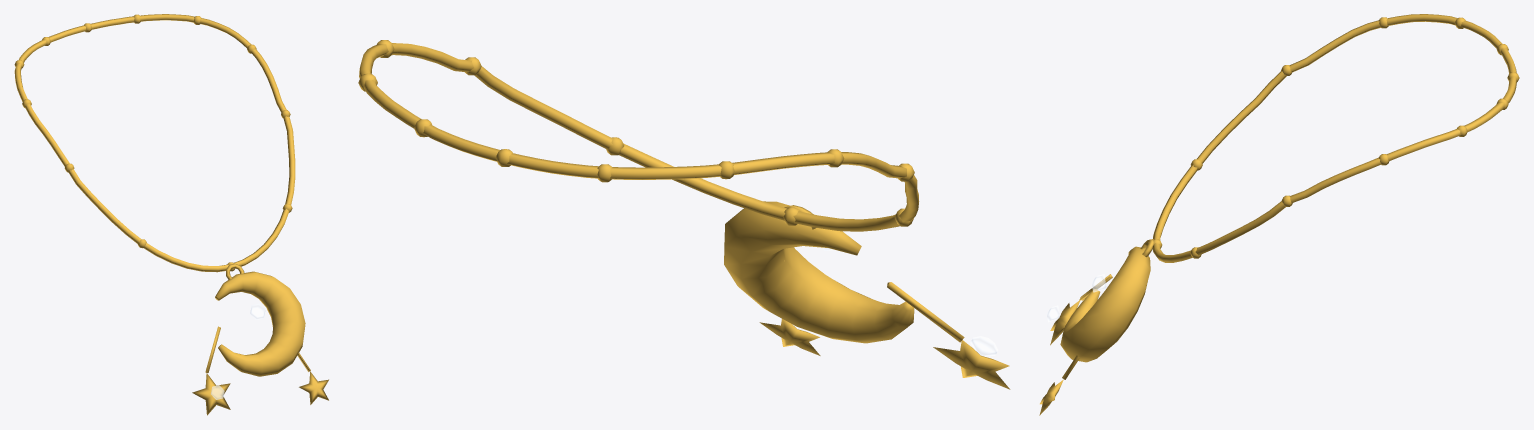
The model's file is moon_star_necklace.glb.
3 renders of one model, left to right at view 1: azimuth 30°, elevation 25°; view 2: azimuth 150°, elevation 25°; view 3: azimuth 270°, elevation 25°, orthographic. The views are drawn at different scales.
Parts seen in each view (by area): view 1: moon_star_necklace; view 2: moon_star_necklace; view 3: moon_star_necklace.
Part boxes in pixels (left/top/right/bottom): moon_star_necklace: left=14, top=14, right=328, bottom=415; moon_star_necklace: left=358, top=40, right=1010, bottom=389; moon_star_necklace: left=1039, top=14, right=1519, bottom=415.
Bounding box in the file's own units: 0.0893 × 0.0923 × 0.1282.
